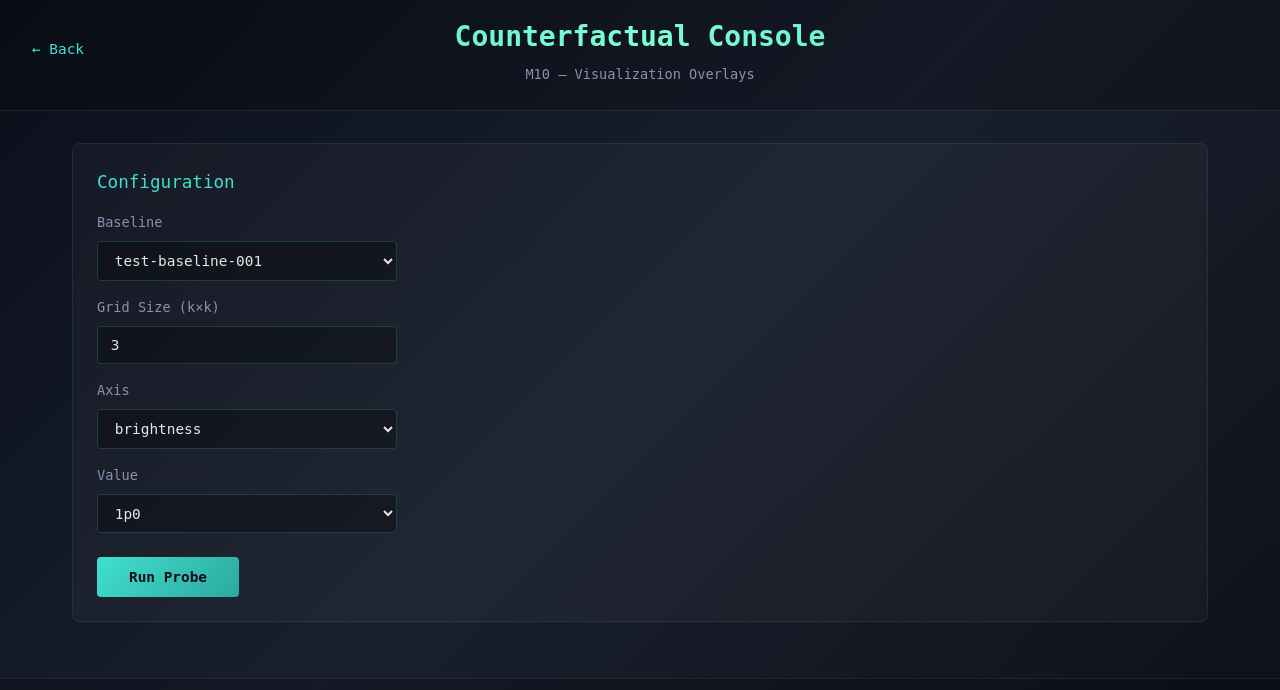
Scenario: M10 Overlay Visualization › Visualization Container › renders heatmap canvas when toggle is on
Click the button "Run Probe": (168, 577) [97,557,239,597]
(page scrolled)
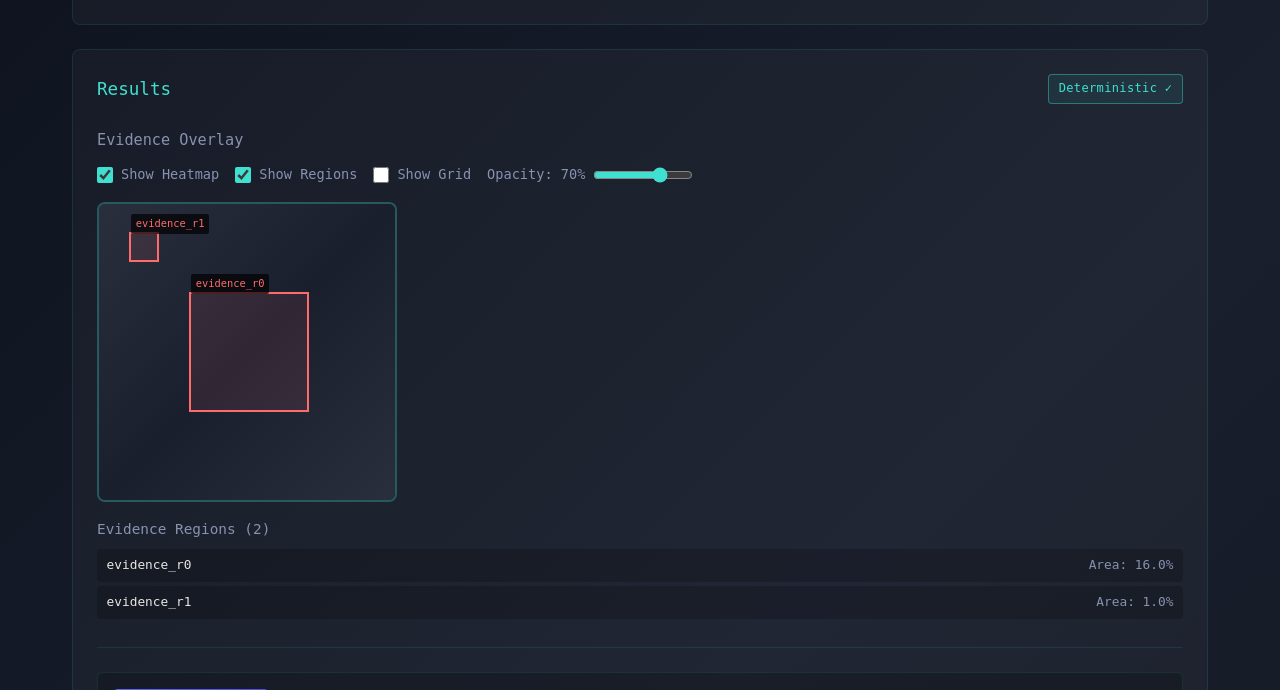
Now the drawing with test id "heatmap-canvas" is shown, box [99,202,397,502]
